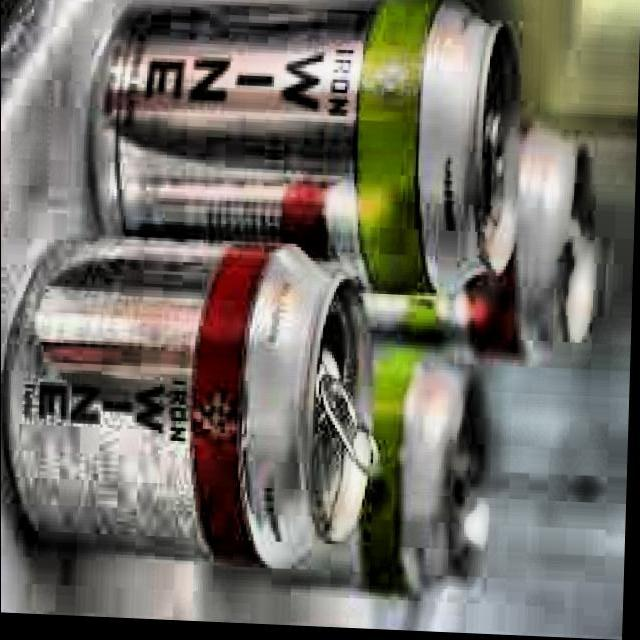litter: (0, 218, 391, 591), (76, 0, 533, 316), (220, 348, 504, 607), (342, 112, 606, 374)
